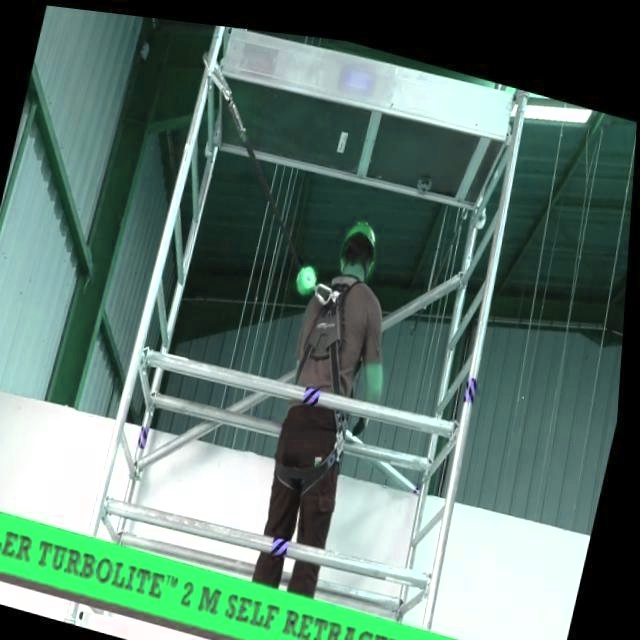safety belt: (267, 311, 371, 496)
